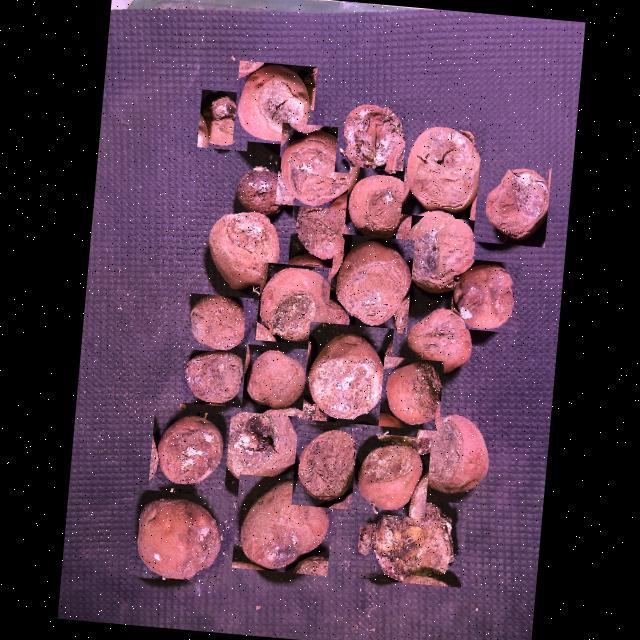Damaged potato: (348, 493, 467, 588), (230, 474, 334, 576), (127, 488, 228, 584), (300, 321, 392, 426), (403, 403, 497, 499), (326, 232, 414, 334), (400, 120, 486, 220), (391, 204, 478, 298), (216, 398, 306, 488), (197, 205, 284, 298), (231, 60, 316, 146), (255, 262, 342, 346), (274, 122, 357, 210), (146, 408, 230, 492), (350, 432, 430, 518), (472, 161, 550, 247), (290, 422, 361, 510), (398, 301, 477, 380), (287, 188, 361, 270), (333, 98, 407, 178), (448, 258, 522, 334), (240, 343, 314, 418), (342, 166, 414, 239), (377, 356, 443, 430), (180, 292, 253, 354), (178, 347, 247, 408), (232, 162, 294, 222), (196, 89, 250, 151)
